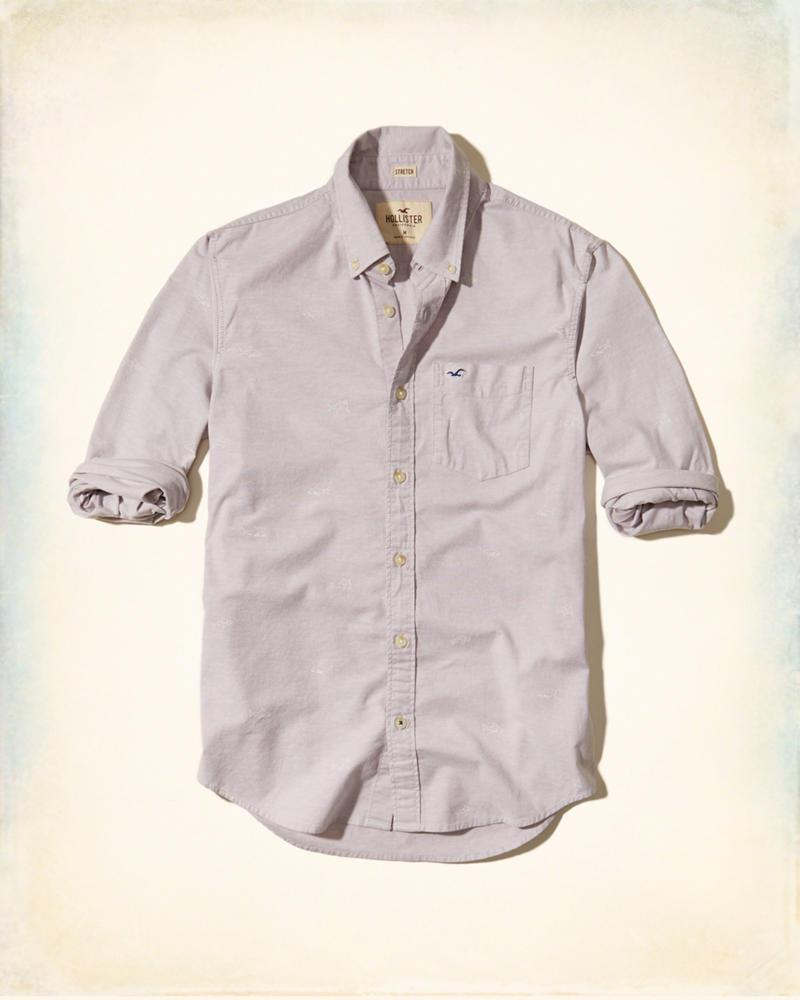teeshirt: (62, 130, 741, 889)
